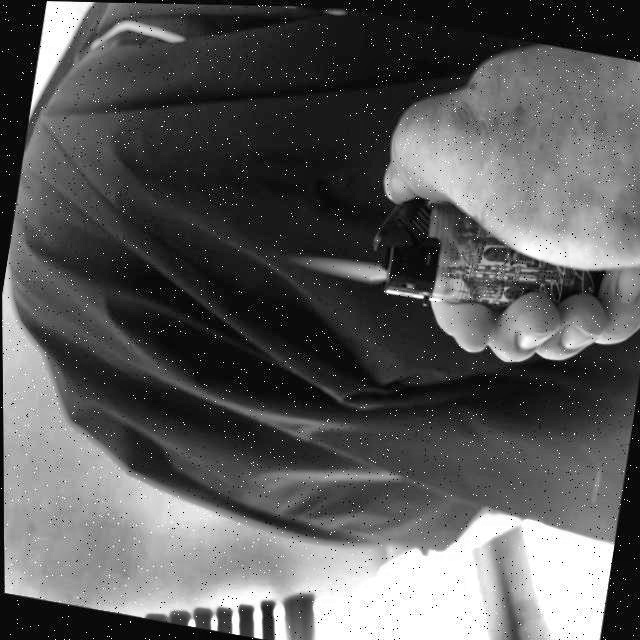Fire: (292, 243, 385, 285)
